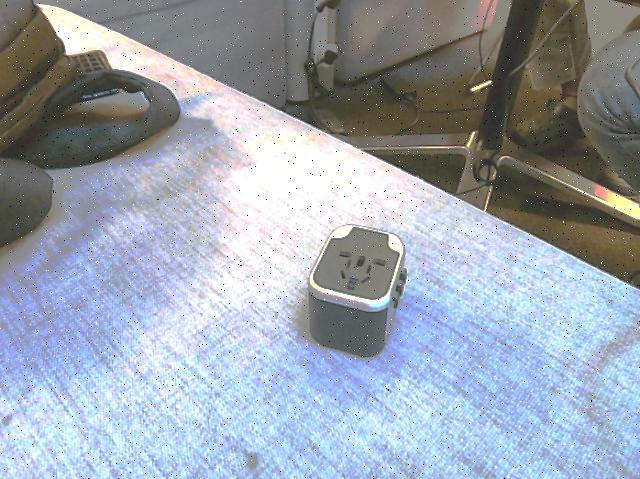adapter: (306, 223, 406, 357)
